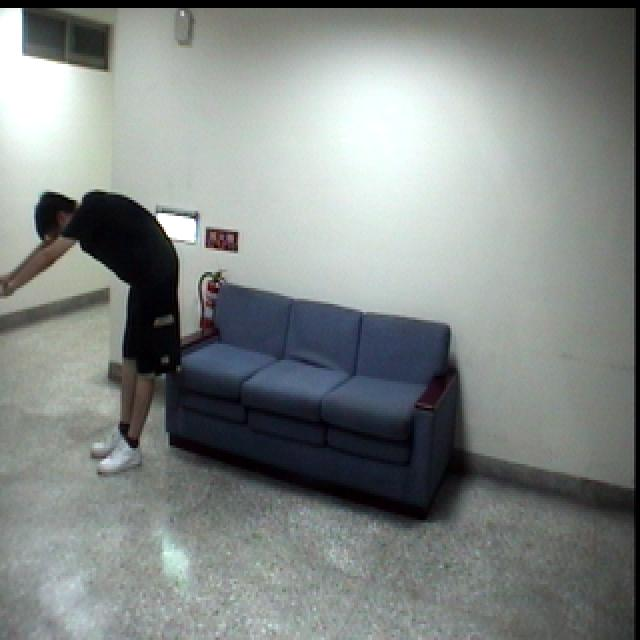bend: (0, 177, 185, 485)
